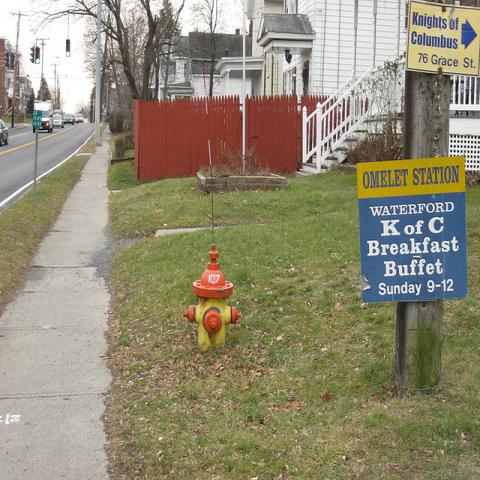car: (0, 119, 10, 147), (63, 113, 75, 125), (53, 115, 64, 128), (76, 114, 83, 124), (74, 114, 78, 122)
truck: (33, 100, 54, 134)
